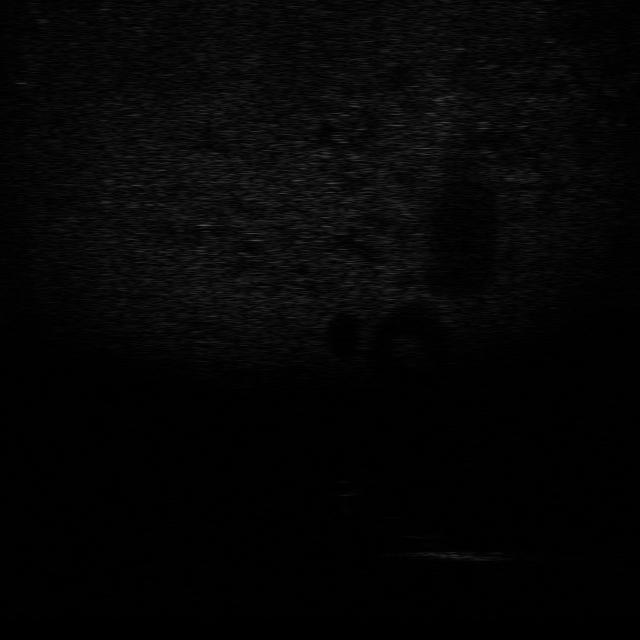ball: (325, 478, 366, 499)
metal bucket: (414, 546, 514, 565)
tyre: (375, 512, 464, 542)
